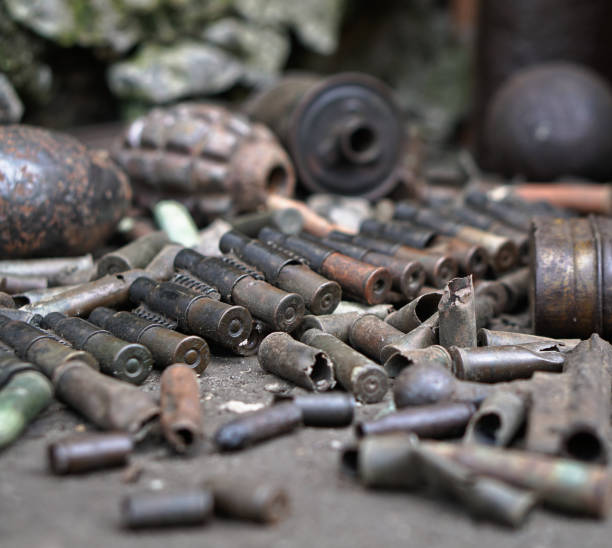e1: (114, 98, 295, 218)
